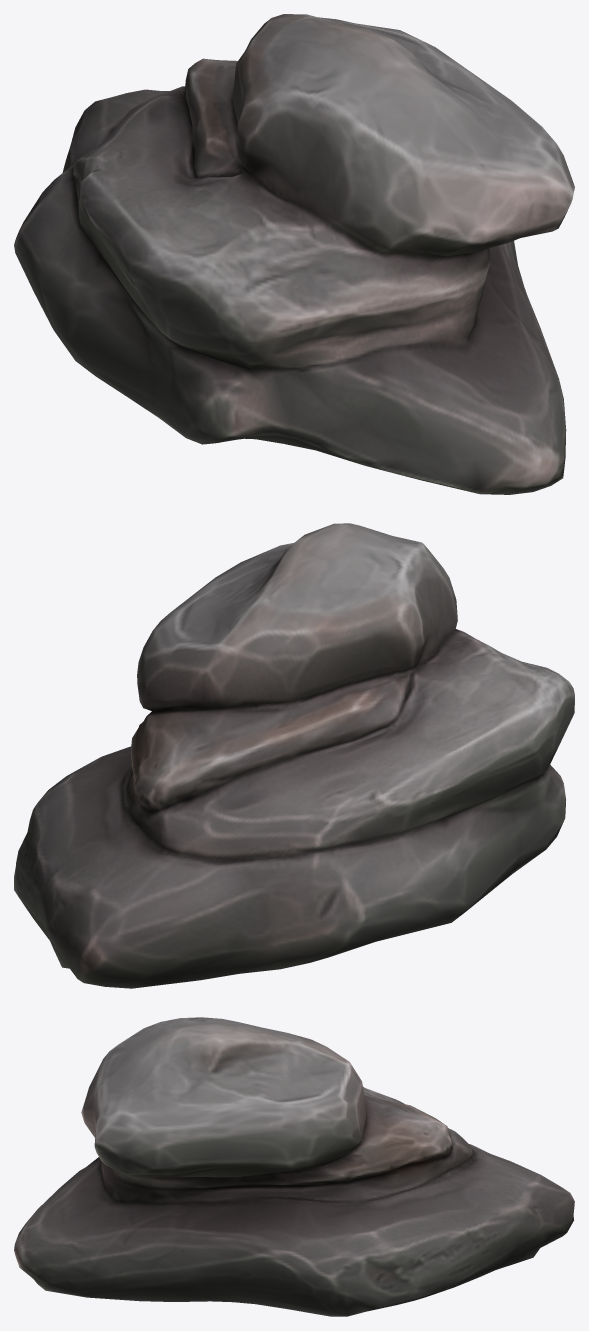
File: Rock 1.fbx
3 views of the same model, one above another, from view 1: azimuth 30°, elevation 25°; view 2: azimuth 150°, elevation 25°; view 3: azimuth 270°, elevation 25° (orthographic). The views are drawn at different scales.
Visible parts, largest first — view 1: rock; view 2: rock; view 3: rock.
Boxes of the visible parts, bbox=[...] form: rock: bbox=[14, 14, 574, 494]; rock: bbox=[14, 523, 574, 988]; rock: bbox=[14, 1017, 574, 1316].
Size of the model in its own units: 3.58 by 2.76 by 5.74.
Materials: 1 (1 with a texture image).
